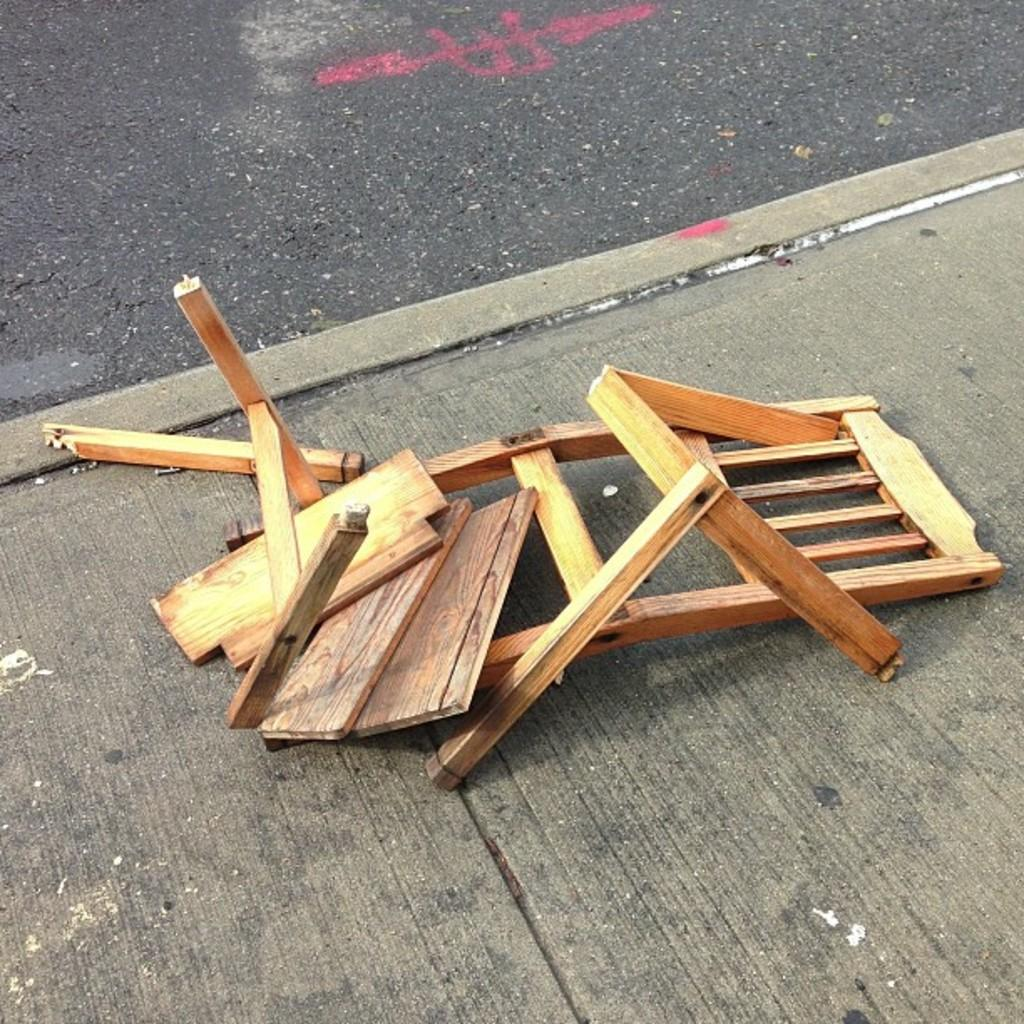Chair: (33, 269, 1014, 793)
